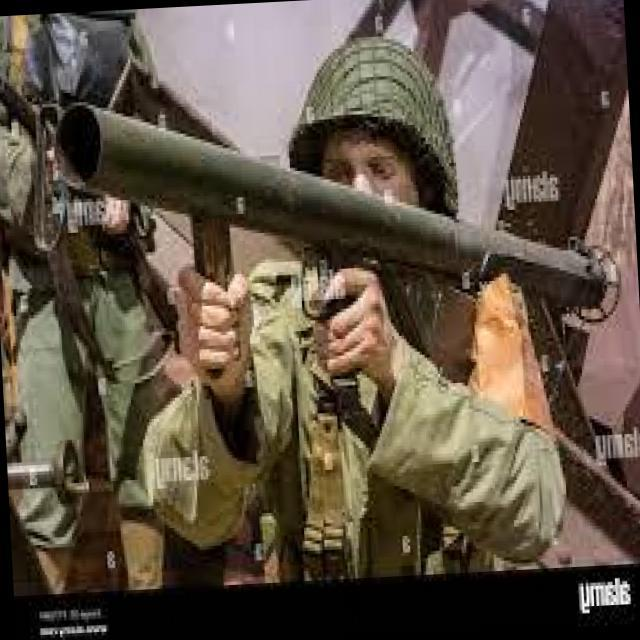rocket: (54, 68, 626, 347)
